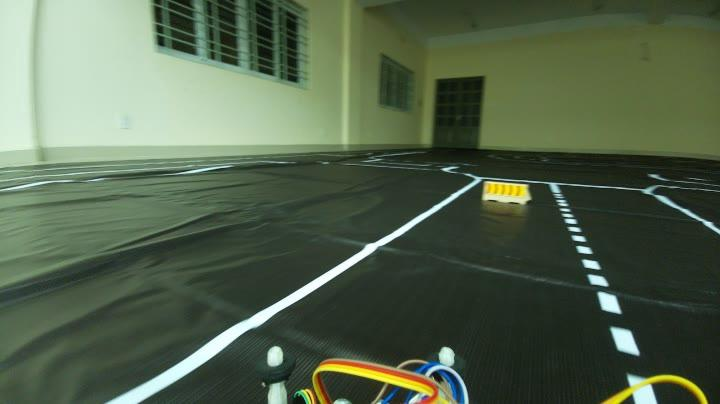roadblock: (484, 177, 534, 204)
